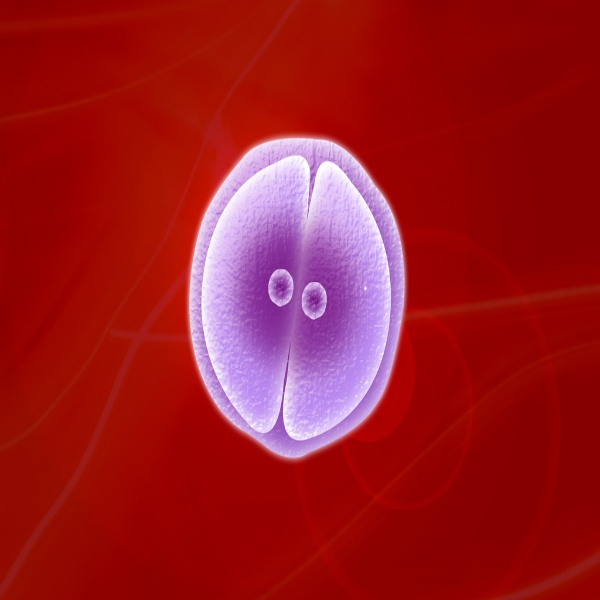Jellyfish: (193, 149, 396, 441)
